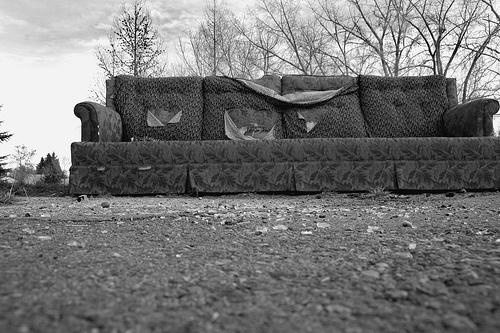sofa: (69, 75, 500, 196)
